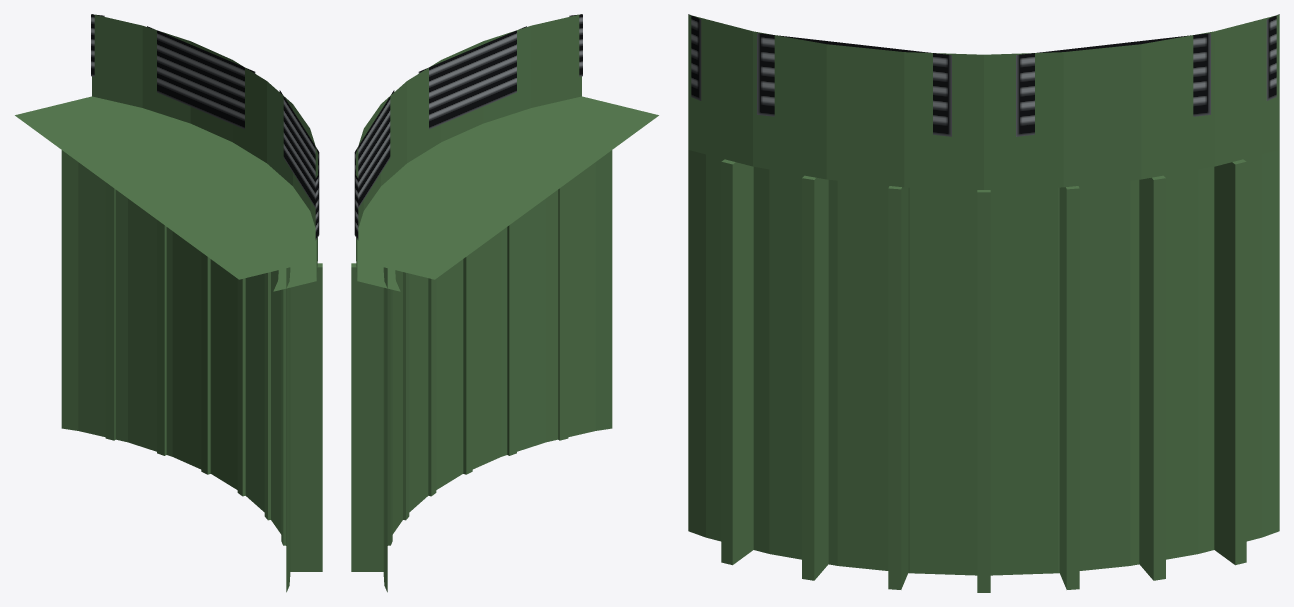
The model's file is cell_53.obj.
3 views of the same model, side by side, from view 1: azimuth 30°, elevation 25°; view 2: azimuth 150°, elevation 25°; view 3: azimuth 270°, elevation 25° (orthographic). The views are drawn at different scales.
Size of the model in its own units: 0.3686 by 1 by 1.
